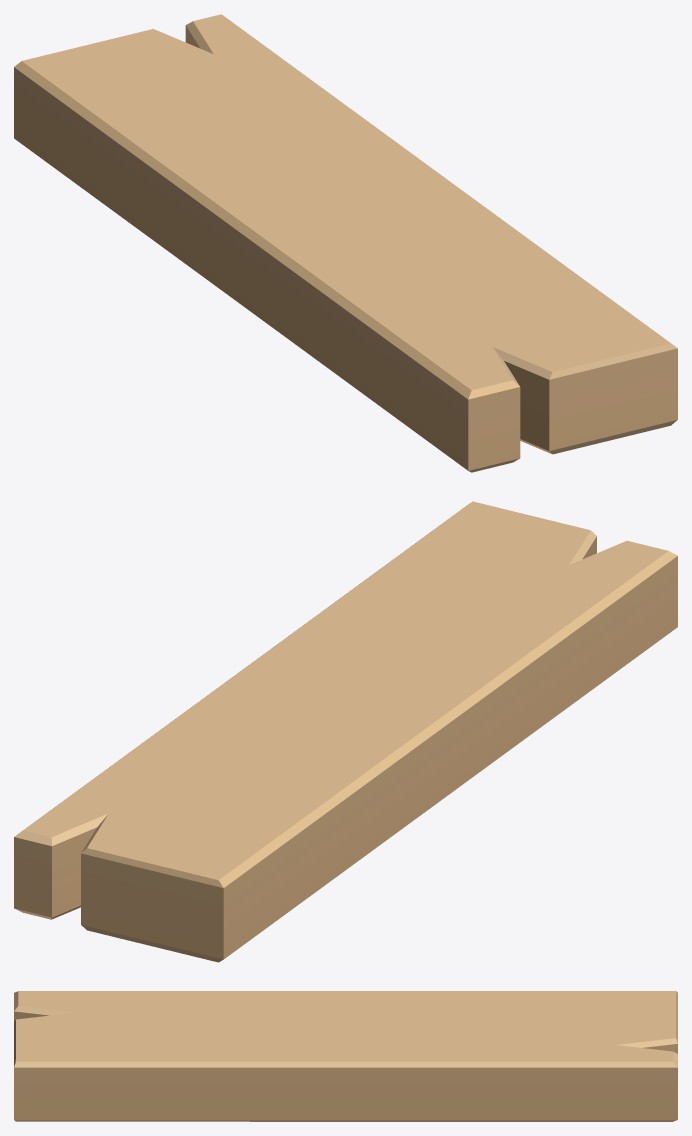
File: Madeira refinada.002.fbx
3 renders of one model, top to bottom at view 1: azimuth 30°, elevation 25°; view 2: azimuth 150°, elevation 25°; view 3: azimuth 270°, elevation 25°, orthographic. The views are drawn at different scales.
Visible parts, largest first — view 1: Madeira refinada.002; view 2: Madeira refinada.002; view 3: Madeira refinada.002.
Boxes of the visible parts, bbox=[...] form: Madeira refinada.002: bbox=[14, 14, 677, 472]; Madeira refinada.002: bbox=[14, 501, 677, 962]; Madeira refinada.002: bbox=[14, 991, 677, 1121].
Bounding box in the file's own units: 72.48 × 27.18 × 272.
